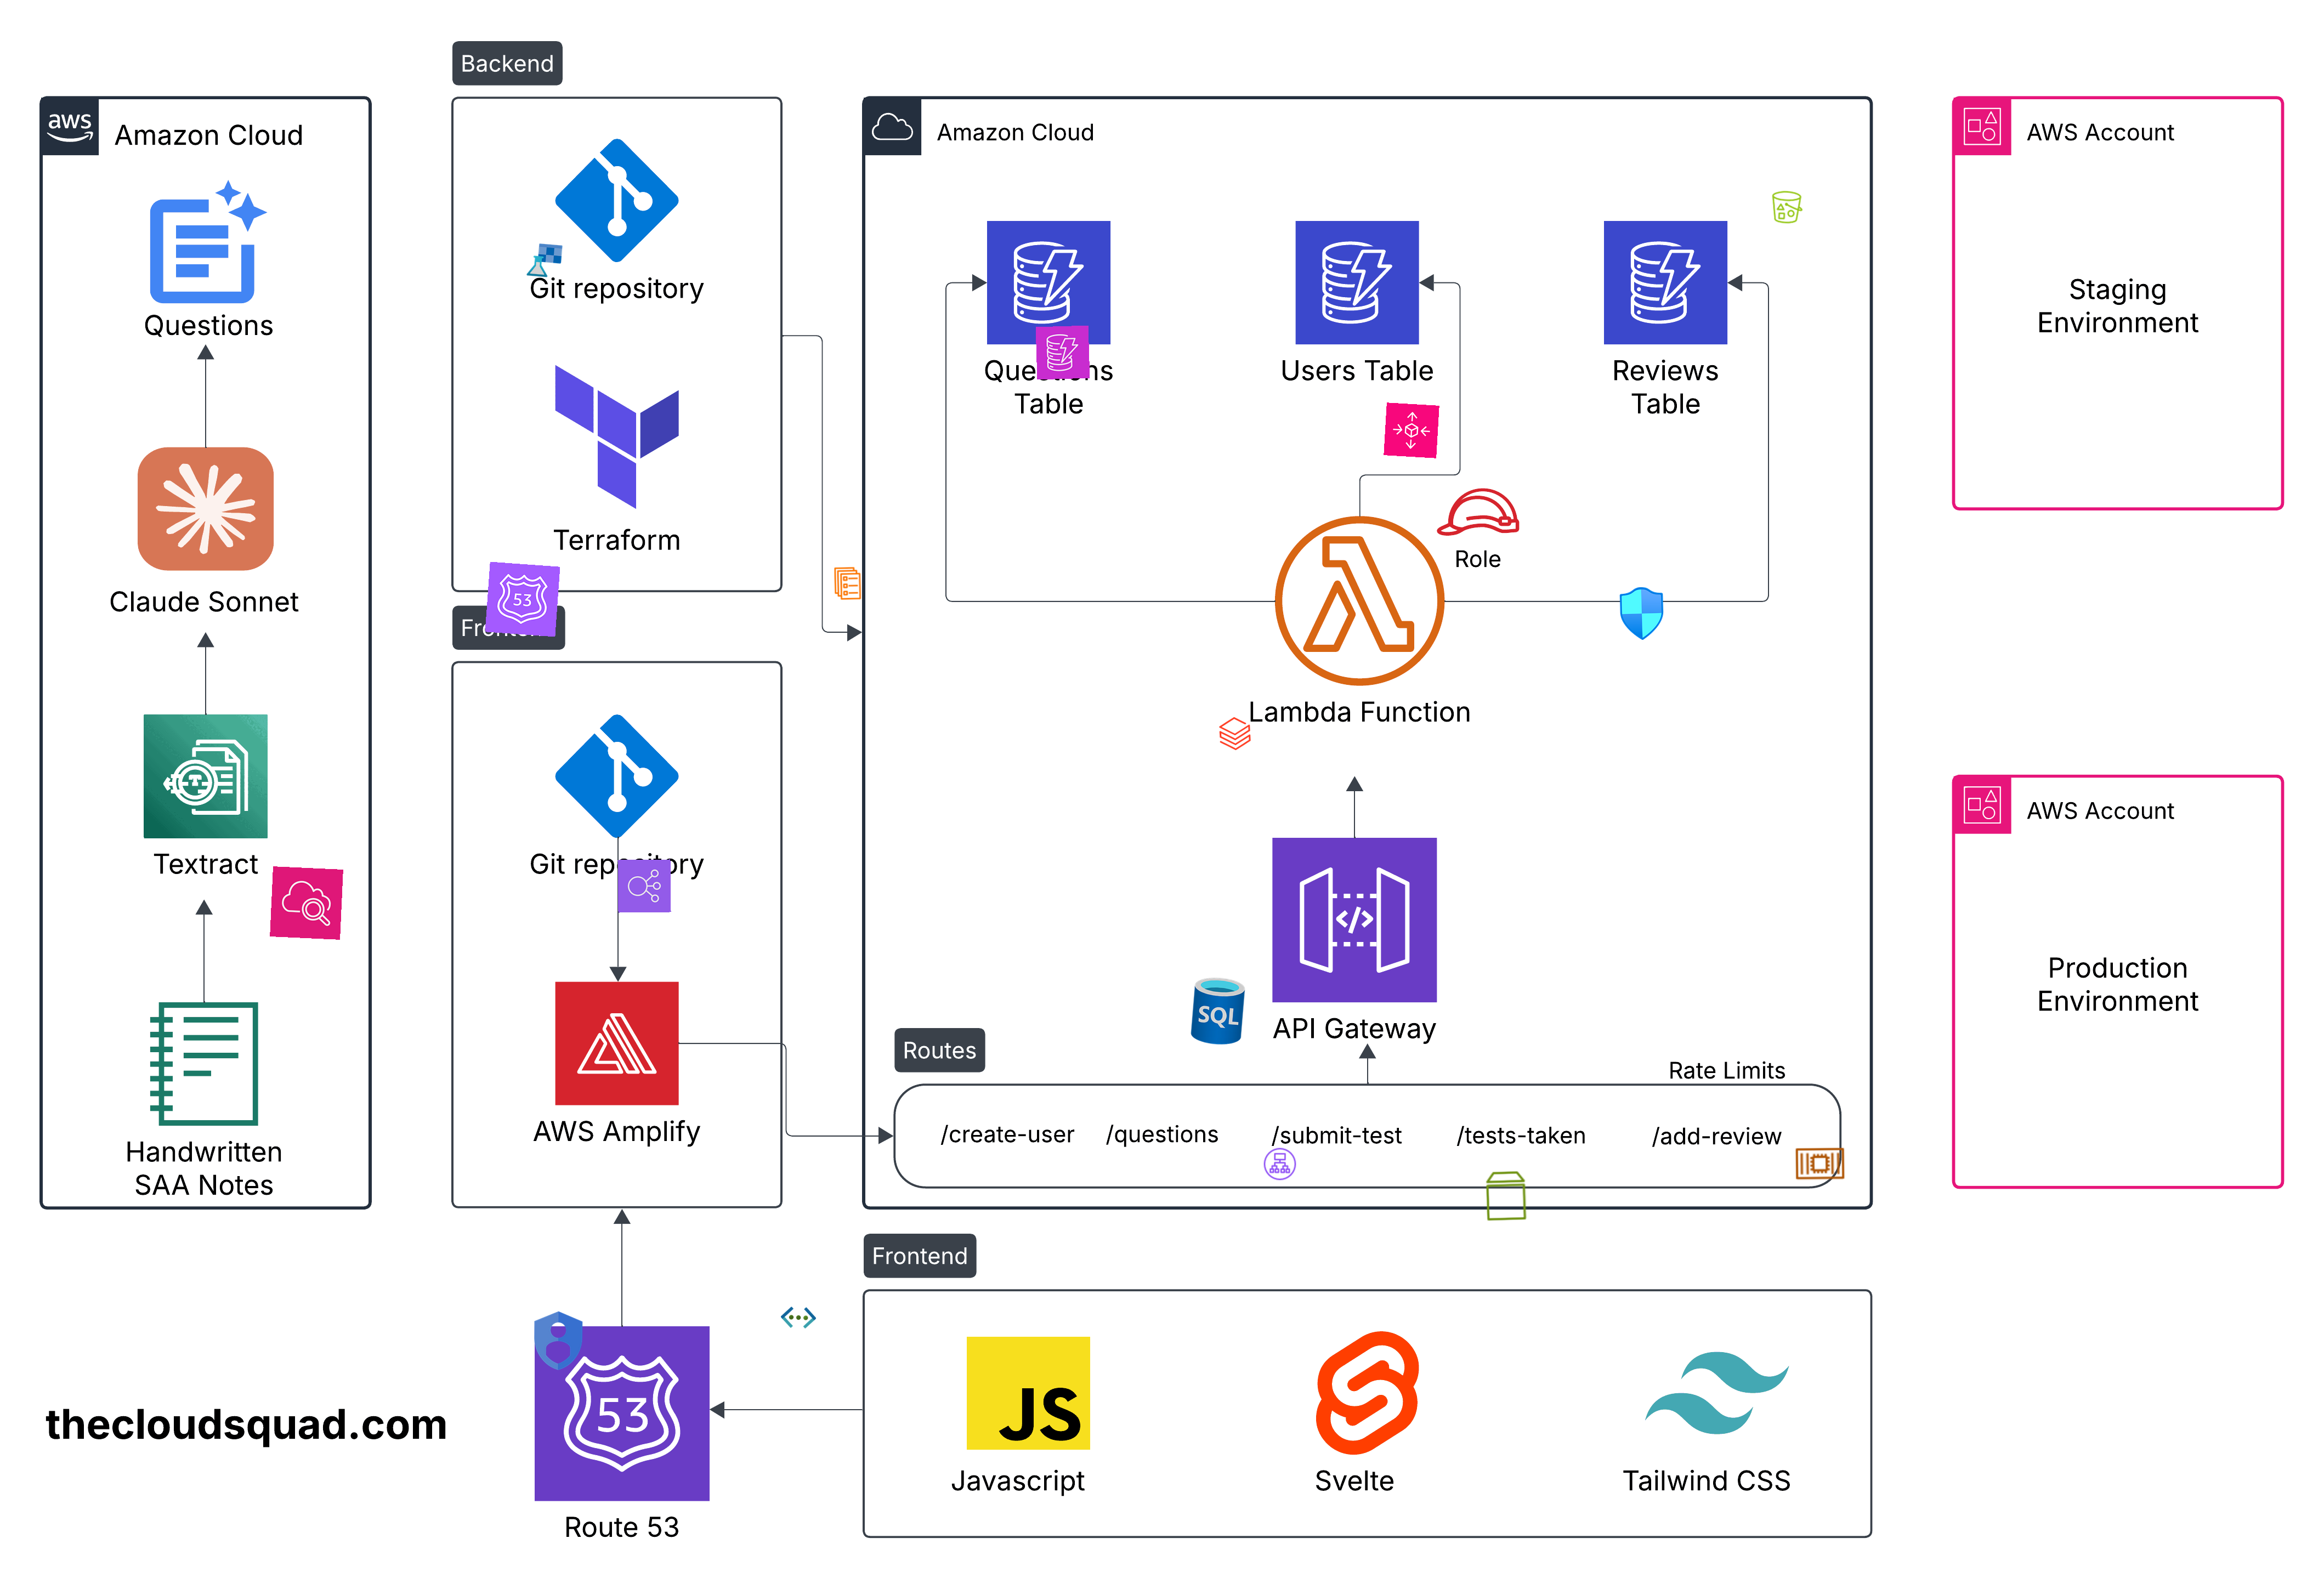aws_amazon_cloudwatch: (269, 866, 343, 940)
aws_amazon_dynamodb: (1035, 326, 1090, 380)
aws_amazon_route_53: (484, 562, 560, 638)
aws_auto_scaling: (1384, 403, 1440, 458)
aws_elastic_block_store_volume: (1479, 1168, 1533, 1224)
aws_elastic_container_service_container_2: (1792, 1136, 1847, 1191)
aws_elastic_container_service_service: (829, 565, 866, 602)
aws_elastic_load_balancing: (618, 859, 671, 912)
aws_elastic_load_balancing_application_load_balancer: (1262, 1147, 1298, 1182)
aws_simple_storage_service_bucket_with_objects: (1768, 188, 1806, 225)
azure_databricks: (1217, 715, 1254, 752)
azure_machine_learning_studio_workspaces: (525, 241, 563, 280)
azure_network_security_groups: (1614, 586, 1669, 641)
azure_sql_database: (1180, 972, 1257, 1050)
azure_virtual_networks: (780, 1300, 817, 1337)
gcp_identity_and_access_management: (523, 1305, 593, 1375)
